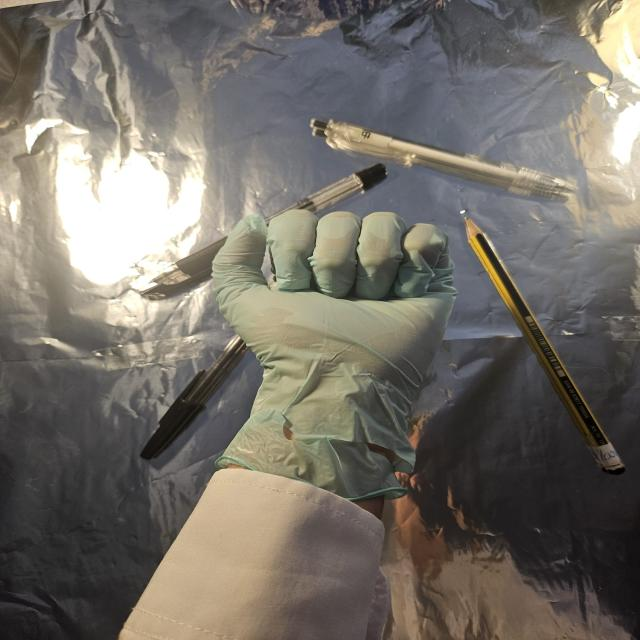gloves_damaged: (209, 210, 462, 501)
